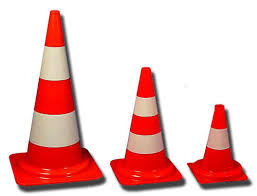cones: (8, 10, 104, 184), (113, 62, 182, 186), (189, 95, 252, 189)
